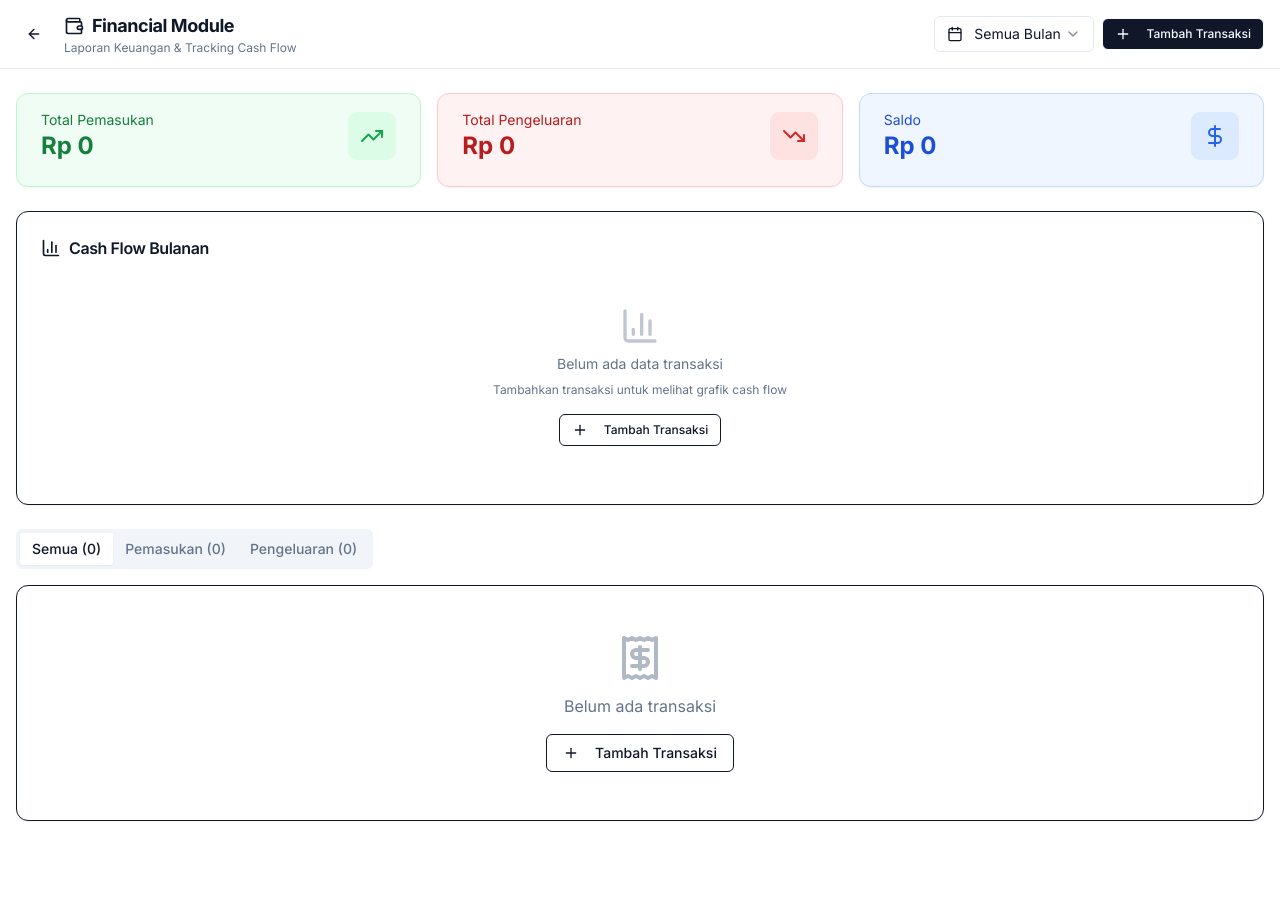
Test case: FinancialModule – mobile header controls (375 px viewport) › tapping the icon-only button opens the add-transaction dialog
Click the button with test id "button-add-transaction". click: [1183, 34]
box: [1102,18,1264,50]
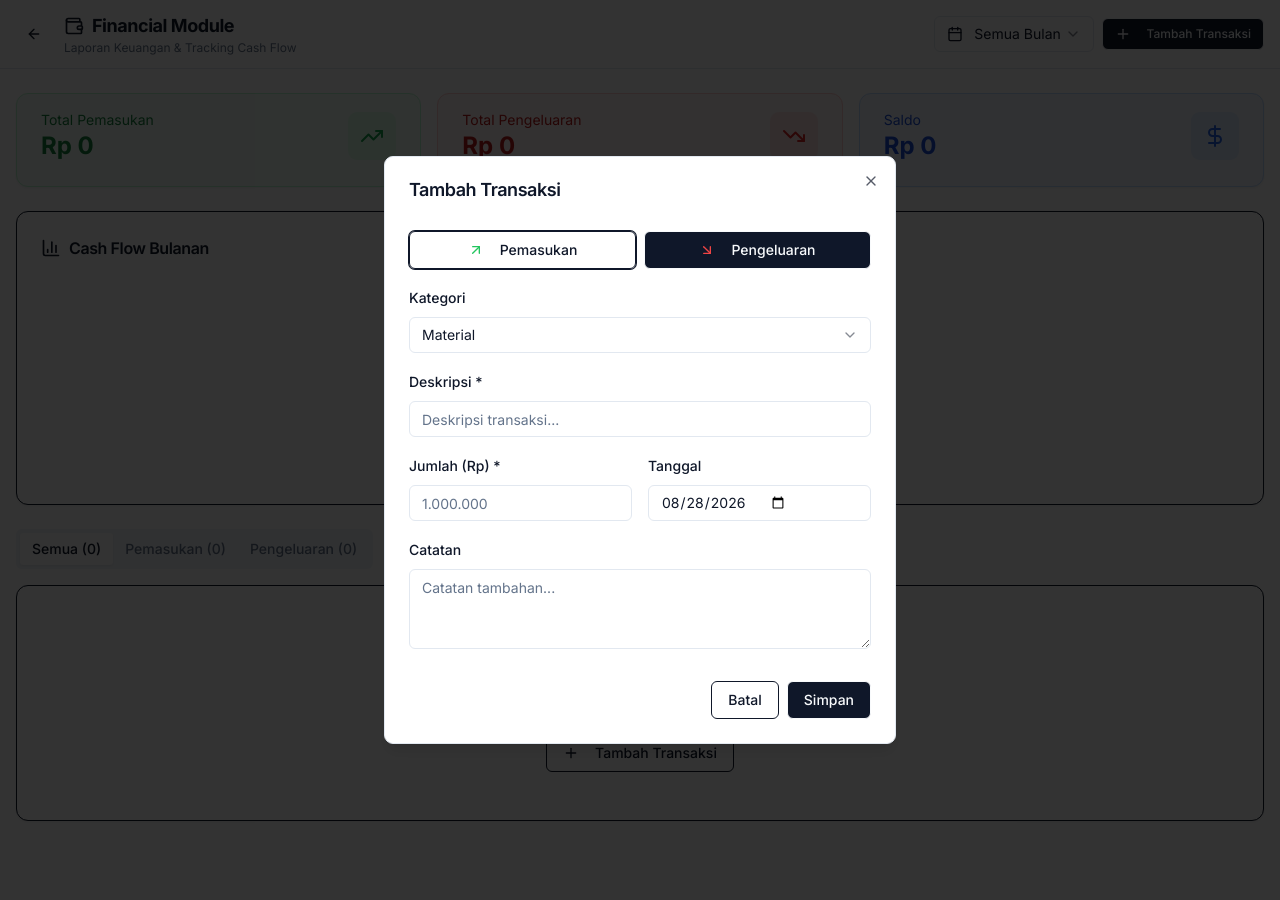
expect the dialog is shown: met, box [384,156,896,744]
expect the heading "Tambah Transaksi" is shown: met, box [409,179,560,200]
